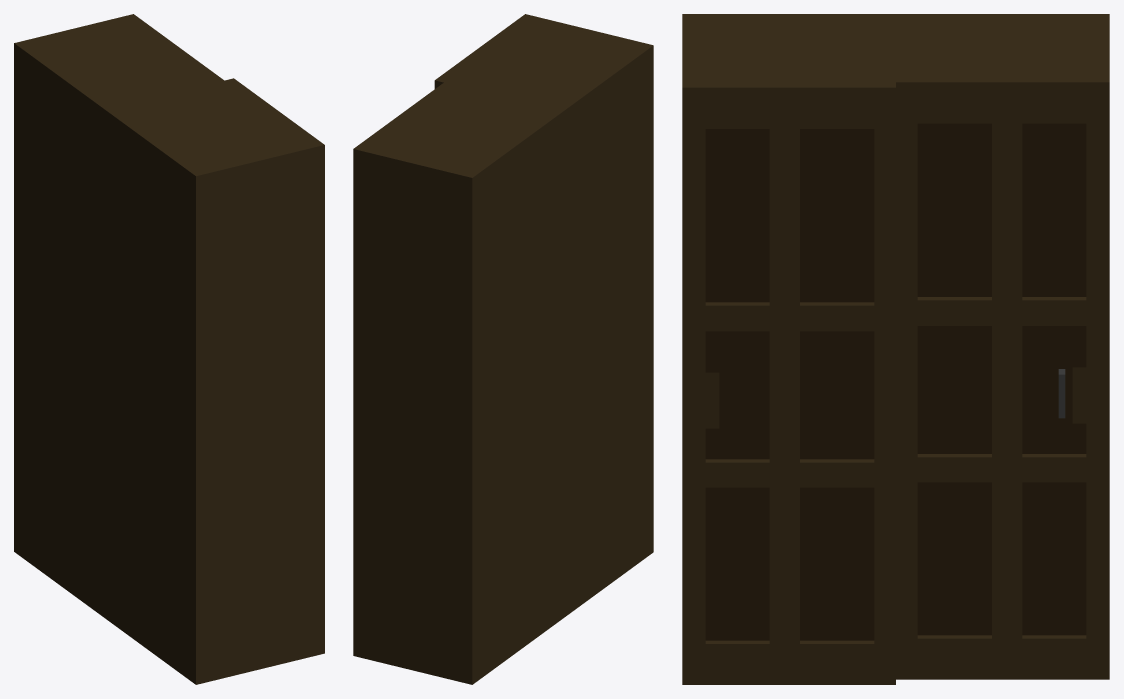
File: Closet.fbx
The picture shows the model from 3 angles, left to right: view 1: azimuth 30°, elevation 25°; view 2: azimuth 150°, elevation 25°; view 3: azimuth 270°, elevation 25°; orthographic projection. The views are drawn at different scales.
Parts seen in each view (by area): view 1: Closet; view 2: Closet; view 3: Closet.
Part boxes in pixels (x1=…): Closet: x1=14, y1=14, x2=324, y2=684; Closet: x1=353, y1=14, x2=653, y2=684; Closet: x1=682, y1=14, x2=1109, y2=684.
Bounding box in the file's own units: 64.12 × 242 × 157.
